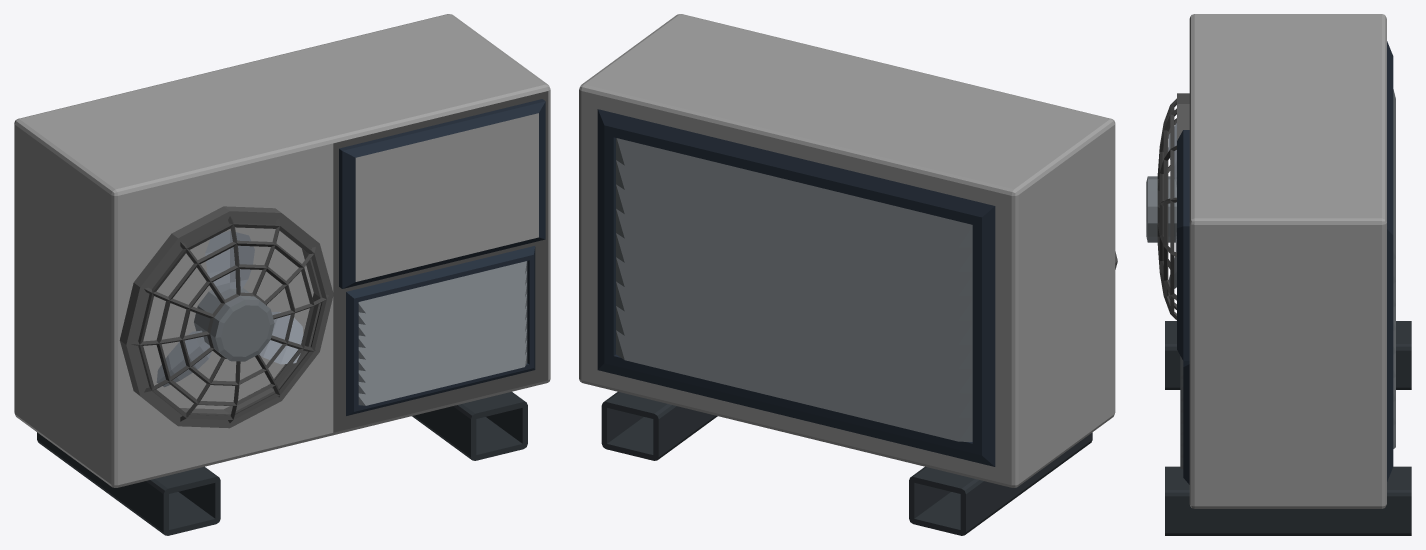
Rendered from SM_BuildingsDecor_22.fbx.
3 renders of one model, left to right at view 1: azimuth 30°, elevation 25°; view 2: azimuth 150°, elevation 25°; view 3: azimuth 270°, elevation 25°, orthographic. The views are drawn at different scales.
Parts seen in each view (by area): view 1: SM_BuildingsDecor_22; view 2: SM_BuildingsDecor_22; view 3: SM_BuildingsDecor_22.
Boxes of the visible parts, bbox=[...] form: SM_BuildingsDecor_22: bbox=[14, 14, 550, 535]; SM_BuildingsDecor_22: bbox=[579, 14, 1117, 535]; SM_BuildingsDecor_22: bbox=[1146, 14, 1411, 535].
Size of the model in its own units: 2 by 1.5 by 1.08.
